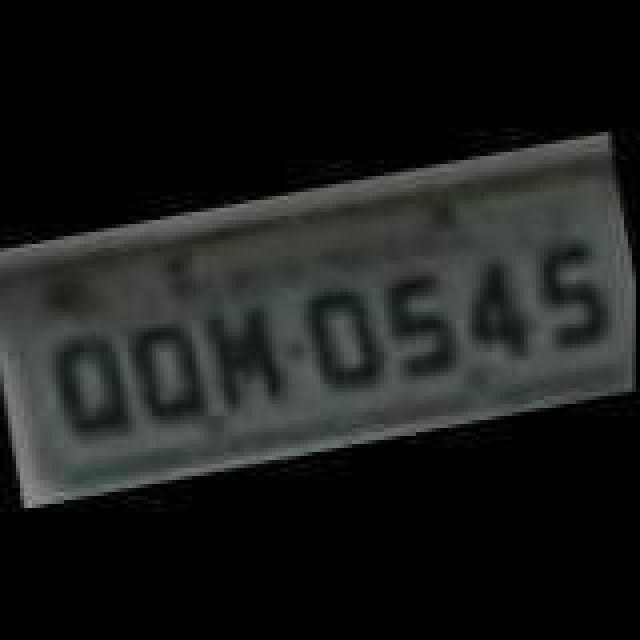4: (460, 246, 540, 362)
5: (376, 260, 464, 380), (528, 232, 616, 352)
M: (196, 300, 292, 420)
O: (298, 278, 390, 394)
Q: (42, 326, 142, 442), (124, 314, 220, 430)
